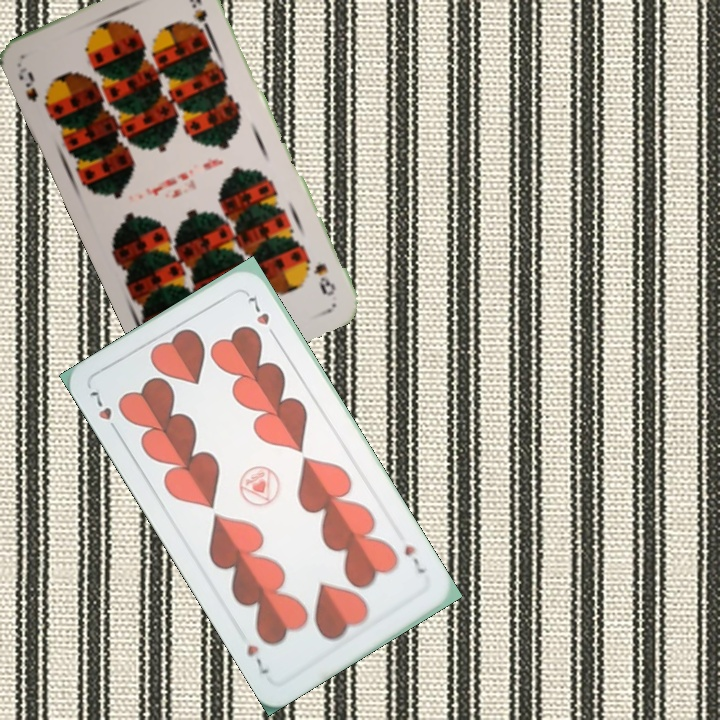H7: (85, 383, 122, 438), (400, 541, 428, 576)
S9: (21, 67, 54, 115), (309, 259, 339, 299)
